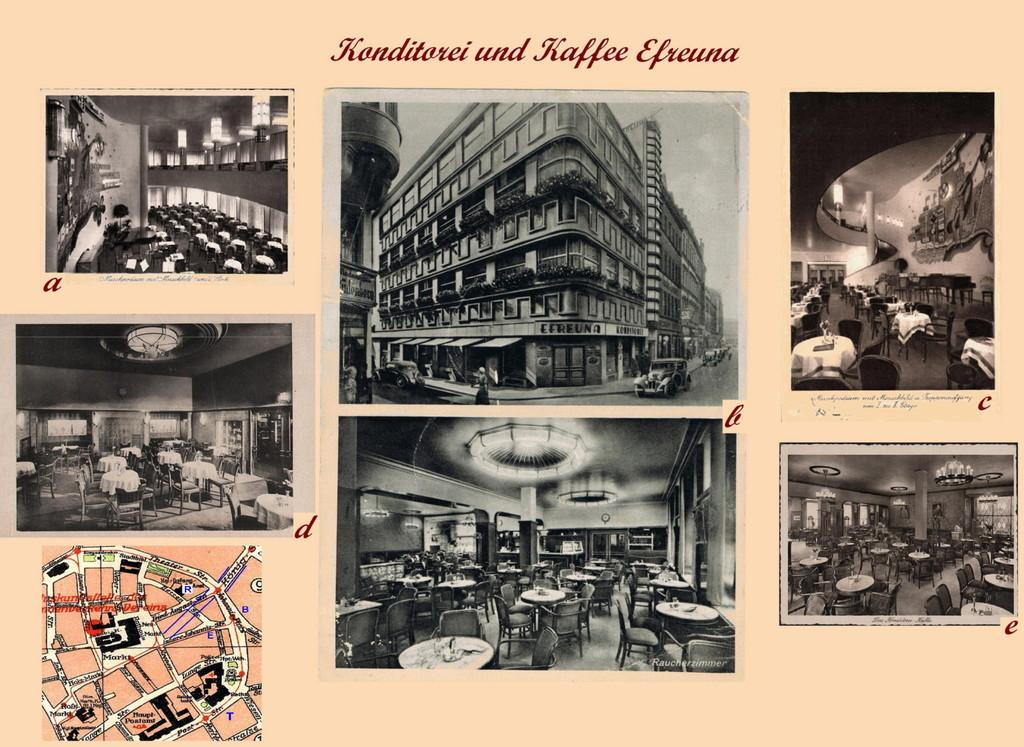Chair: (496, 626, 564, 679)
